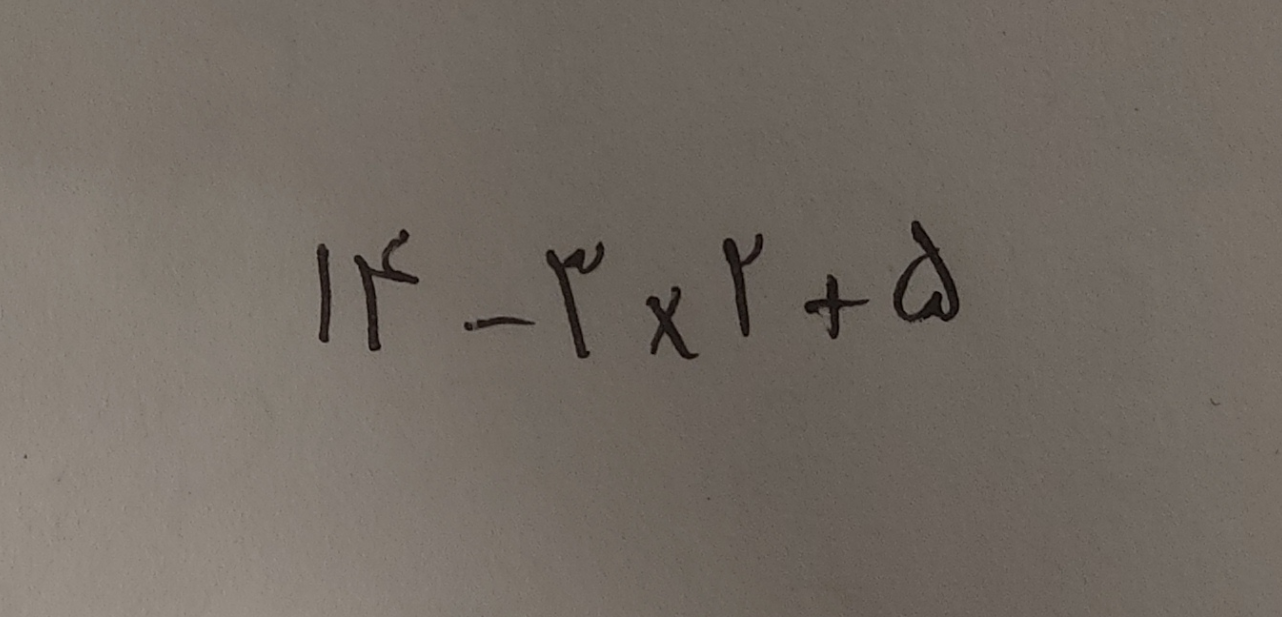character: (544, 242, 619, 377), (352, 230, 427, 364), (892, 219, 972, 336), (722, 231, 781, 348), (800, 274, 881, 353), (644, 285, 714, 374), (311, 241, 348, 356), (459, 316, 546, 348)
